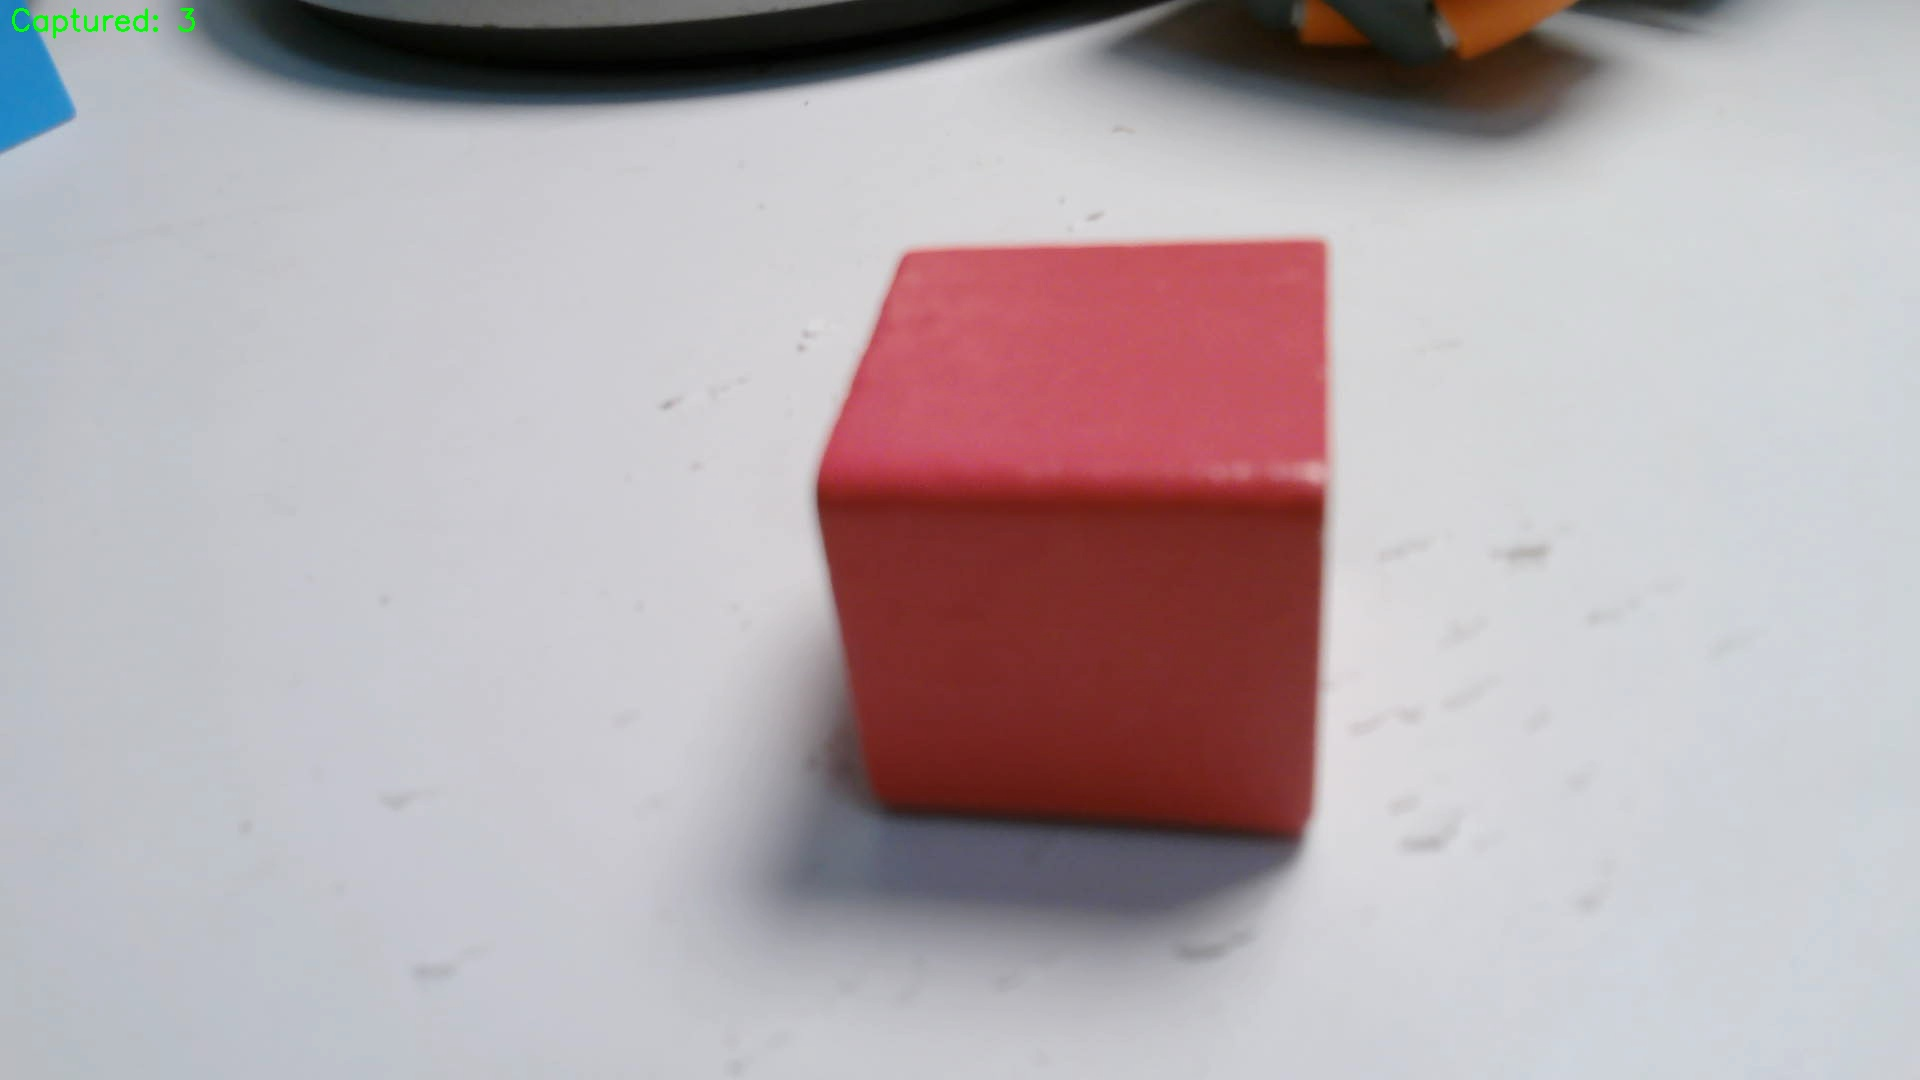red: (824, 240, 1328, 829)
